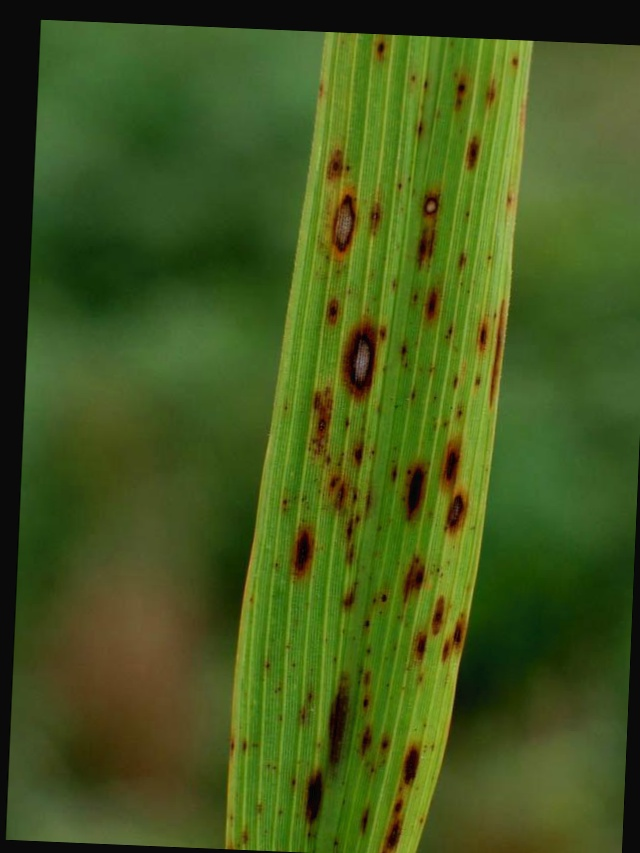Bacterial_Leaf_Blight: (313, 669, 362, 783), (345, 314, 385, 392), (394, 446, 432, 518), (328, 187, 362, 262), (293, 774, 333, 834), (285, 514, 319, 584), (397, 542, 437, 601), (398, 729, 436, 790), (375, 789, 406, 853), (437, 429, 468, 491), (415, 278, 455, 326), (318, 136, 355, 179), (445, 484, 471, 536), (441, 66, 465, 119), (427, 586, 448, 636), (490, 292, 499, 408), (468, 311, 489, 360), (412, 191, 447, 220), (450, 606, 468, 660), (407, 626, 433, 662), (367, 35, 393, 63), (462, 132, 481, 170), (482, 76, 503, 108), (512, 53, 520, 70)
